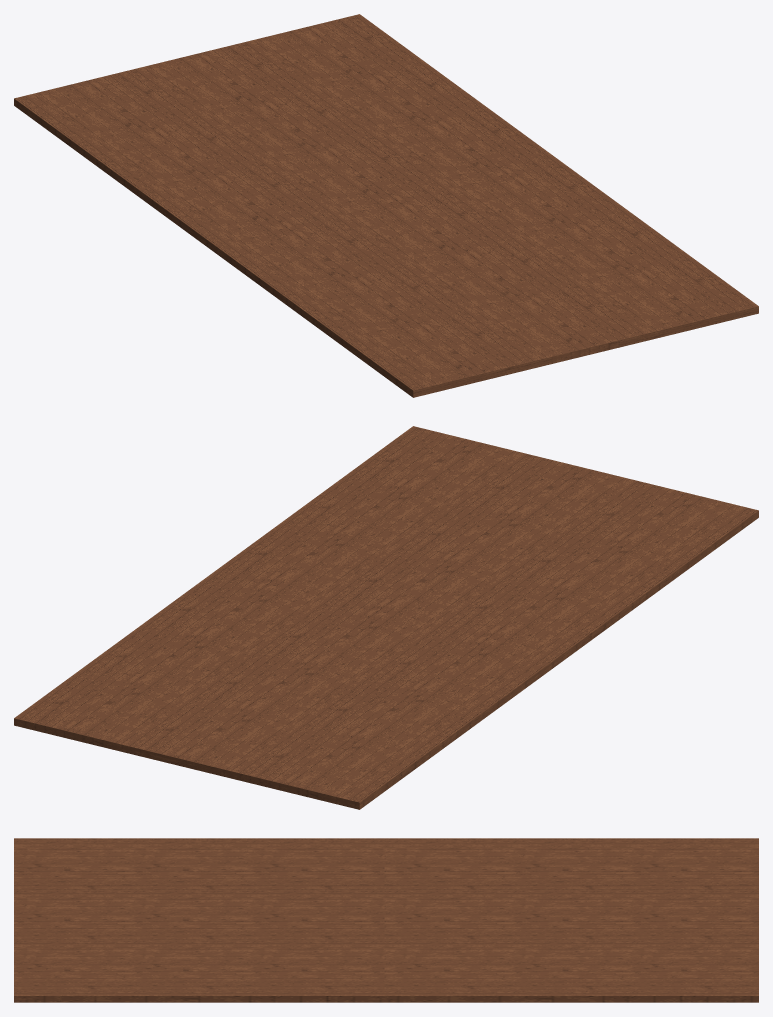
Rendered from floor_2.fbx.
3 renders of one model, top to bottom at view 1: azimuth 30°, elevation 25°; view 2: azimuth 150°, elevation 25°; view 3: azimuth 270°, elevation 25°, orthographic. The views are drawn at different scales.
Visible parts, largest first — view 1: FLOOR_02; view 2: FLOOR_02; view 3: FLOOR_02.
Boxes of the visible parts, x1,y1,x2,y2 form: FLOOR_02: (14, 14, 758, 397); FLOOR_02: (14, 426, 758, 809); FLOOR_02: (14, 838, 758, 1002).
Bounding box in the file's own units: 2000 × 40 × 4000.
